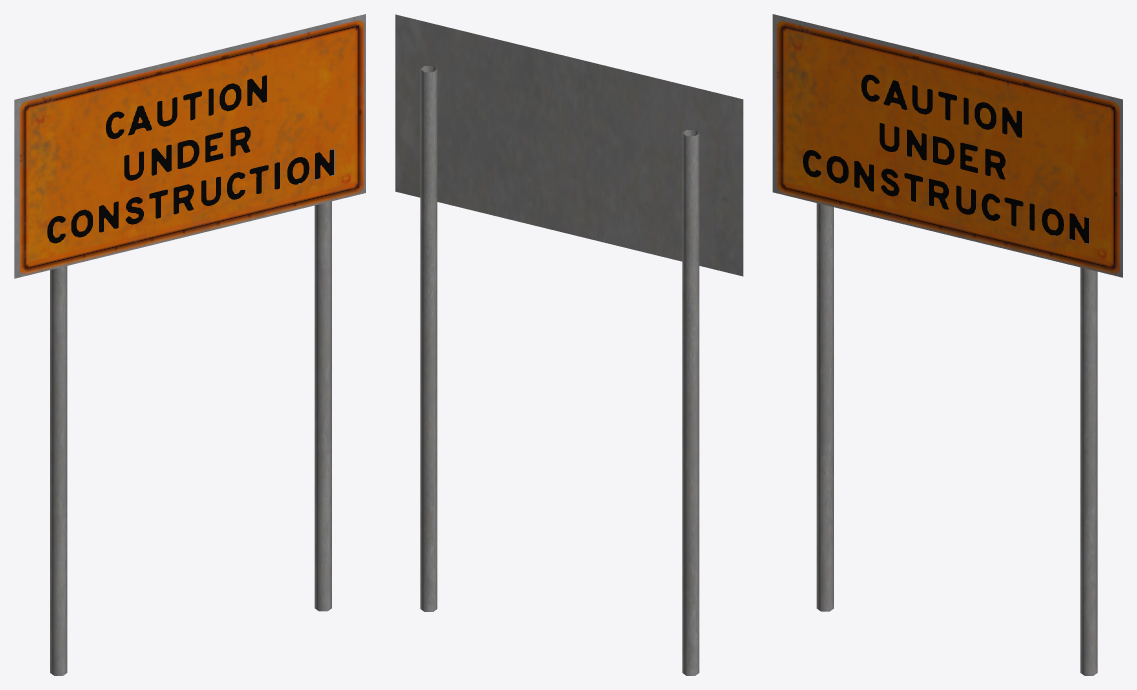
Rendered from construction_sign_small_a.DAE.
3 renders of one model, left to right at view 1: azimuth 30°, elevation 25°; view 2: azimuth 150°, elevation 25°; view 3: azimuth 330°, elevation 25°, orthographic.
Visible parts, largest first — view 1: Construction_sign_small_a30; view 2: Construction_sign_small_a30; view 3: Construction_sign_small_a30.
Part boxes in pixels (left/top/right/bottom): Construction_sign_small_a30: left=14, top=14, right=365, bottom=675; Construction_sign_small_a30: left=395, top=14, right=743, bottom=675; Construction_sign_small_a30: left=772, top=14, right=1122, bottom=675.
Bounding box in the file's own units: 1.71 × 0.0835 × 2.73.
